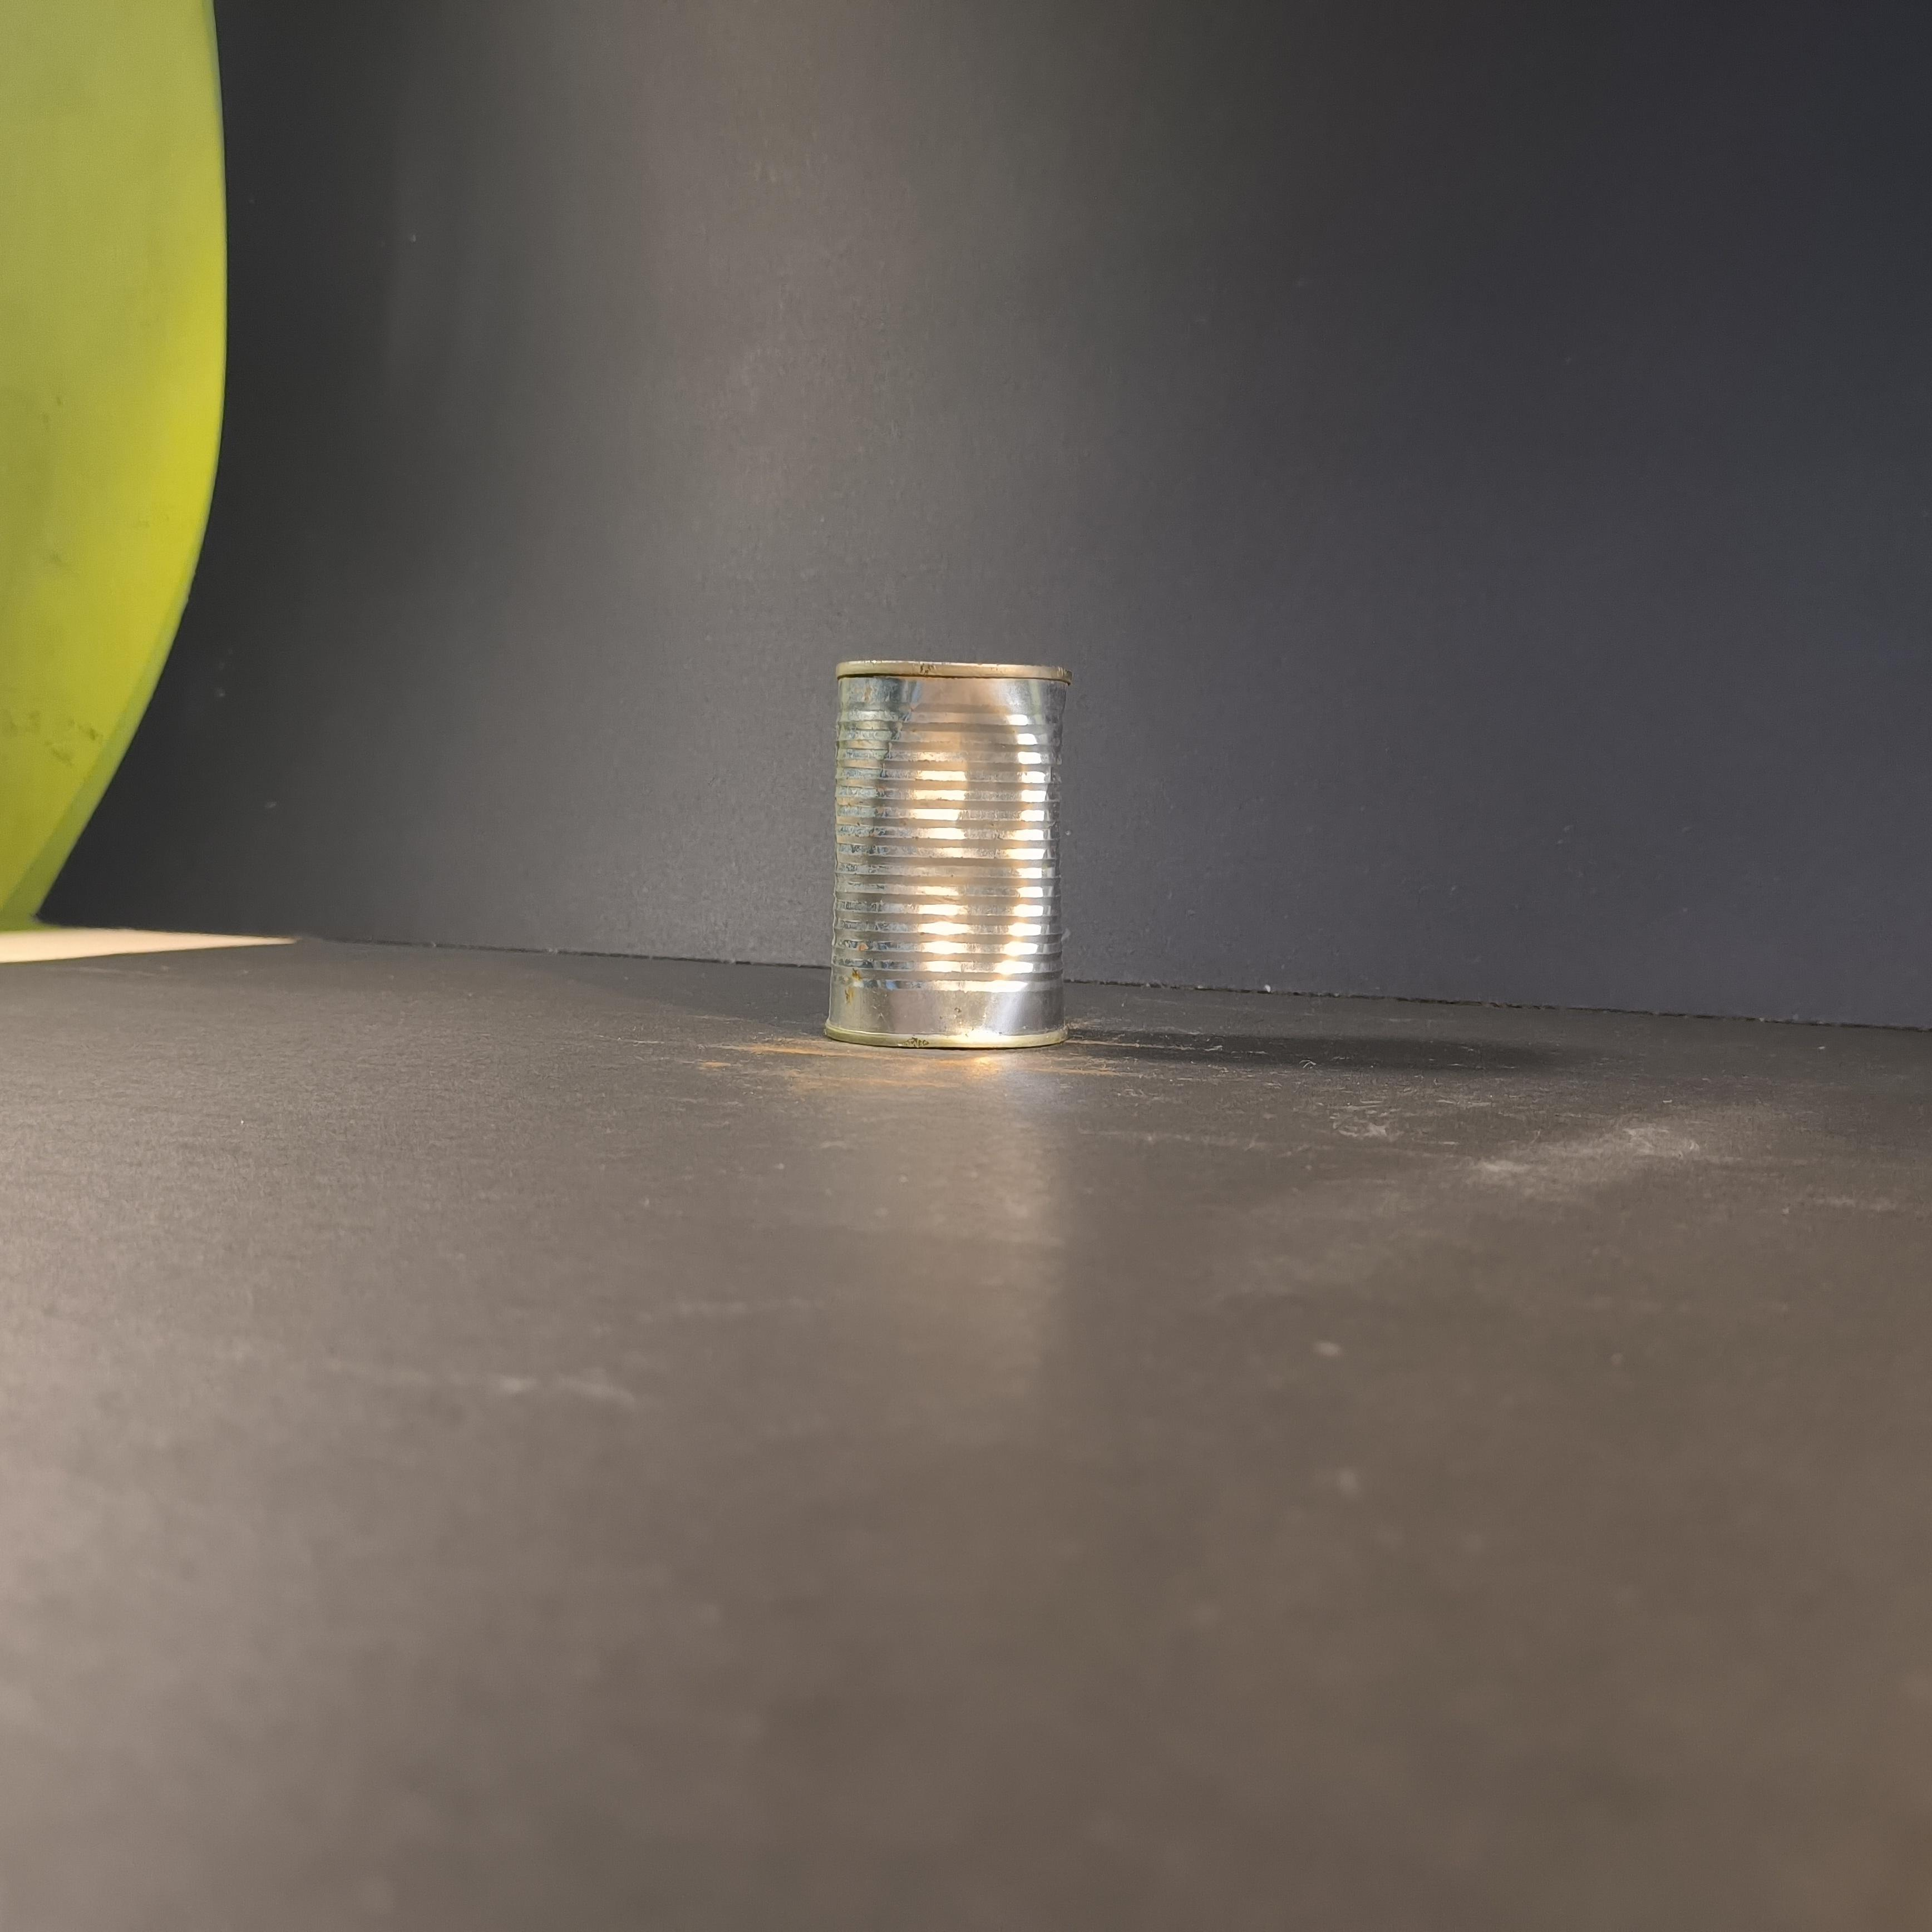Dented: (815, 640, 1091, 1068)
